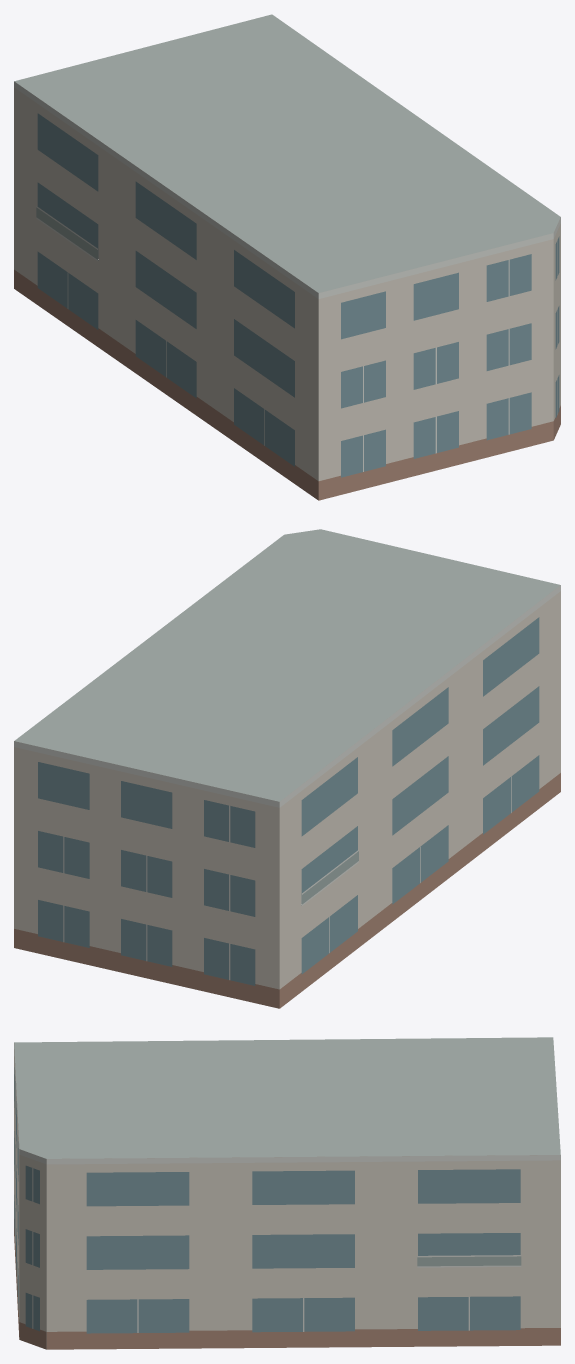
File: survey-upis-32520148.glb
3 views of the same model, one above another, from view 1: azimuth 30°, elevation 25°; view 2: azimuth 150°, elevation 25°; view 3: azimuth 270°, elevation 25° (orthographic). The views are drawn at different scales.
Parts seen in each view (by area): view 1: survey-upis-32520148.tmp; view 2: survey-upis-32520148.tmp; view 3: survey-upis-32520148.tmp.
Part boxes in pixels (x1,y1,x2,y2): survey-upis-32520148.tmp: (14,14,560,500); survey-upis-32520148.tmp: (14,529,560,1008); survey-upis-32520148.tmp: (14,1037,560,1349).
Bounding box in the file's own units: 11.5 × 8.4 × 21.84.
